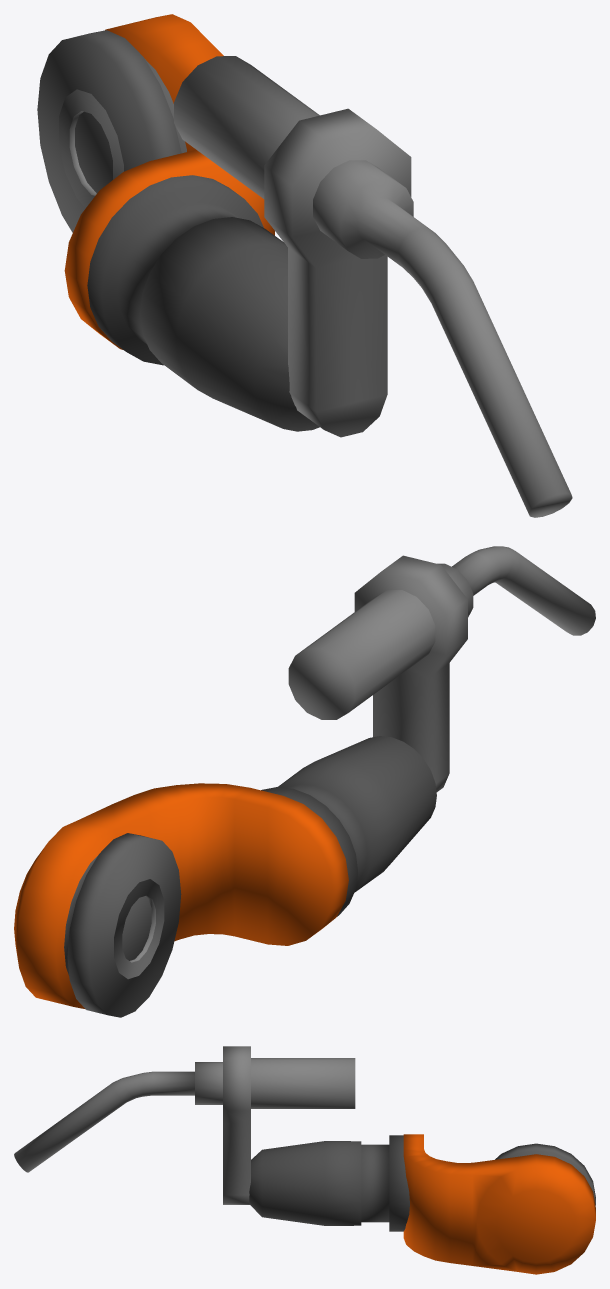
File: end_effector_nozzle.dae
3 views of the same model, one above another, from view 1: azimuth 30°, elevation 25°; view 2: azimuth 150°, elevation 25°; view 3: azimuth 270°, elevation 25° (orthographic). The views are drawn at different scales.
Parts seen in each view (by area): view 1: Object_94.101; view 2: Object_94.101; view 3: Object_94.101.
Boxes of the visible parts, x1,y1,x2,y2 form: Object_94.101: (37, 14, 572, 517); Object_94.101: (14, 546, 595, 1017); Object_94.101: (14, 1046, 595, 1274).
Size of the model in its own units: 0.8002 by 3.08 by 1.08.
